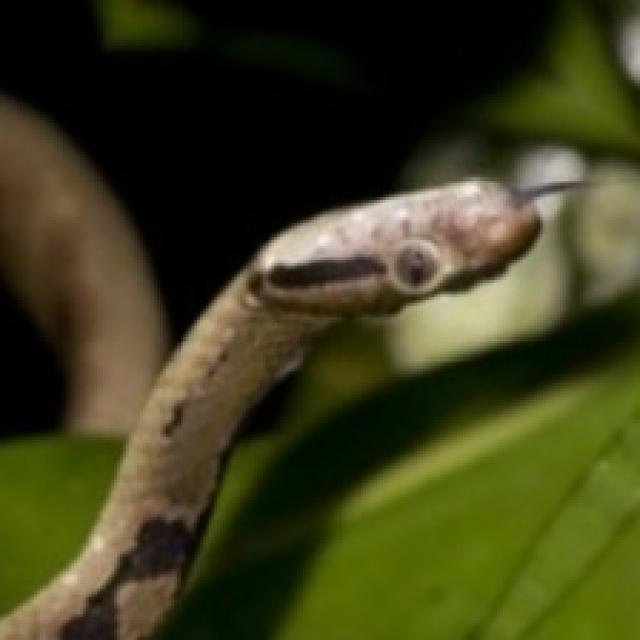dog-toothed cat snake: (0, 177, 577, 637)
